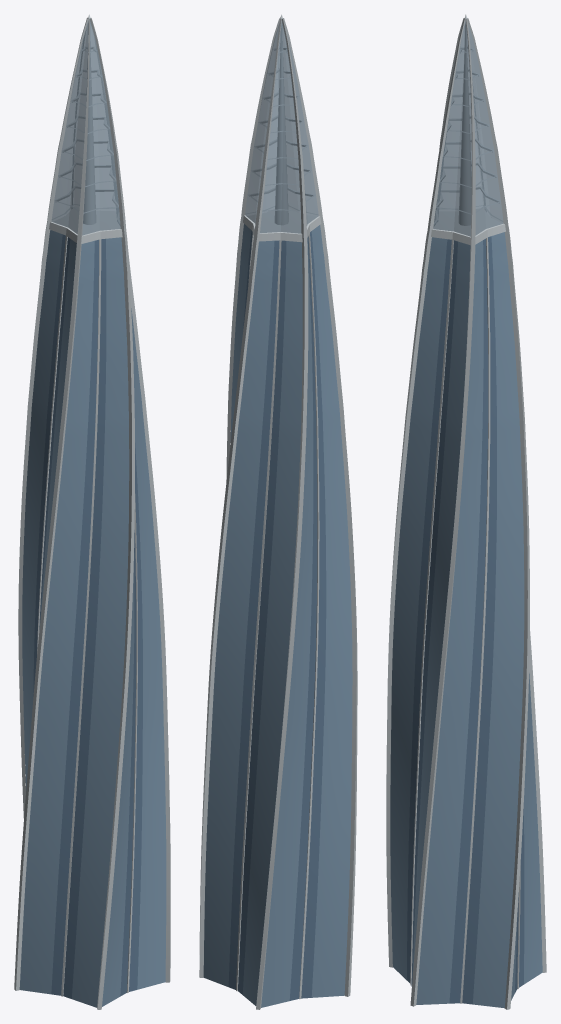
File: spb-lakhta-center.detail.glb
3 views of the same model, side by side, from view 1: azimuth 30°, elevation 25°; view 2: azimuth 150°, elevation 25°; view 3: azimuth 270°, elevation 25° (orthographic).
Visible parts, largest first — view 1: Lakhta Center; view 2: Lakhta Center; view 3: Lakhta Center.
Part boxes in pixels (left/top/right/bottom): Lakhta Center: left=14, top=14, right=170, bottom=1009; Lakhta Center: left=199, top=14, right=357, bottom=1009; Lakhta Center: left=386, top=14, right=546, bottom=1009.
Size of the model in its own units: 67.78 by 462 by 69.56.
